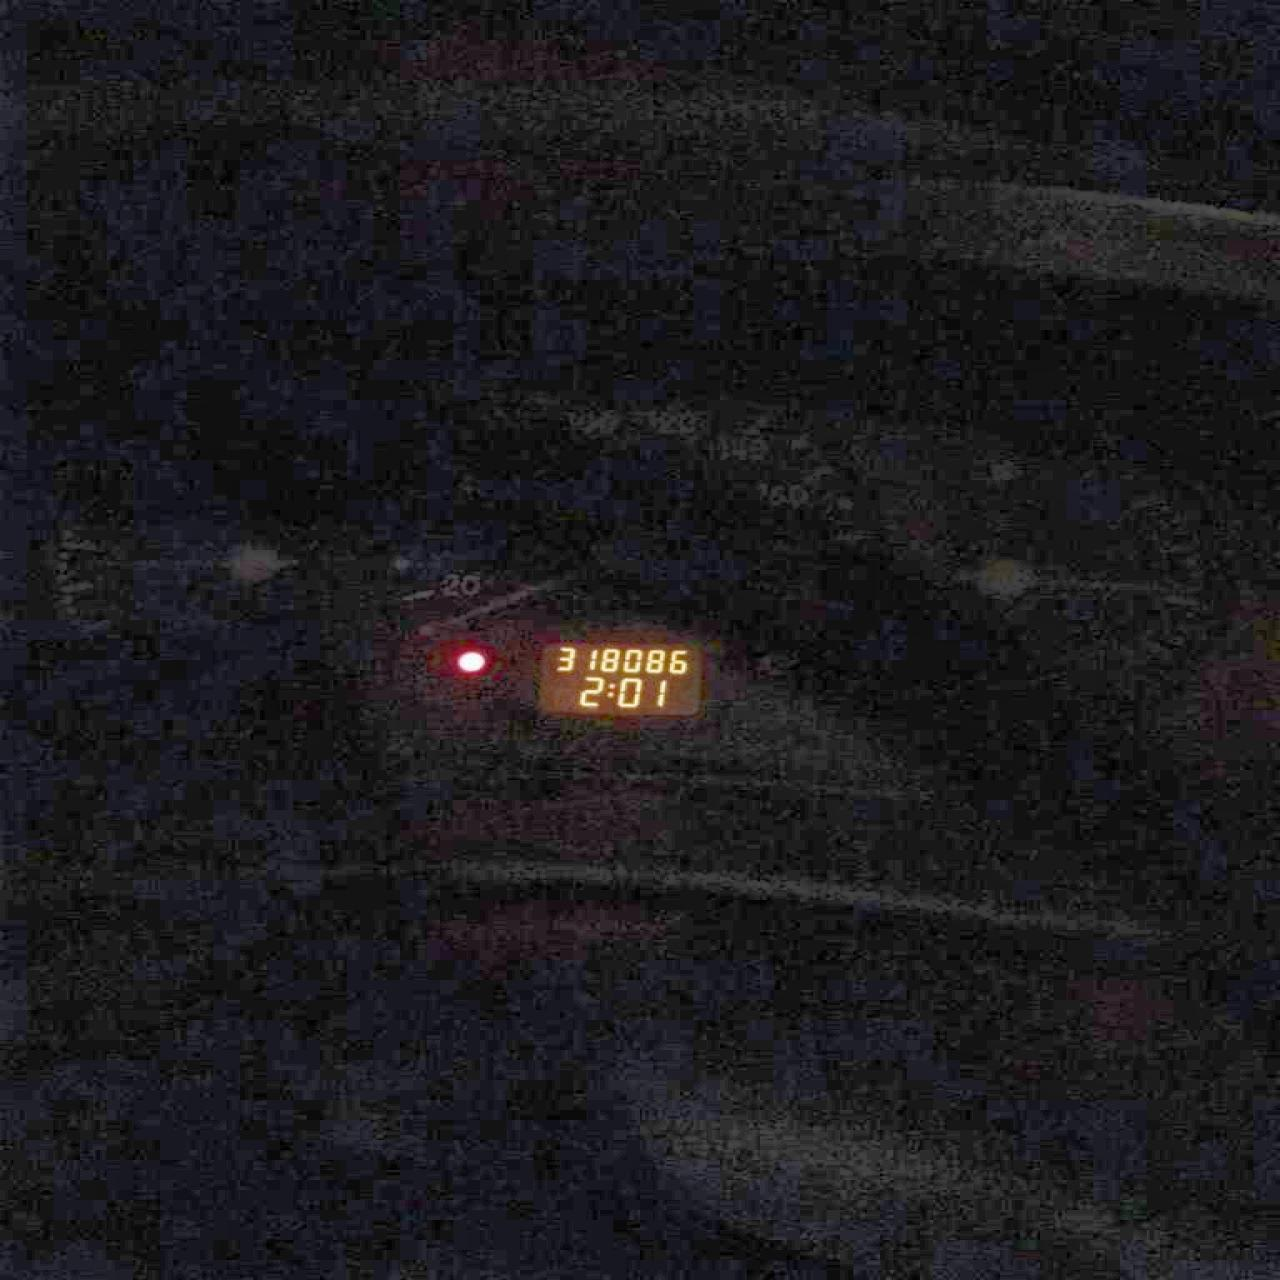0: (617, 676, 641, 708), (621, 647, 644, 673)
1: (655, 676, 668, 712), (585, 647, 597, 672)
2: (577, 675, 604, 706)
3: (557, 644, 576, 672)
6: (667, 647, 690, 673)
8: (644, 647, 665, 673), (600, 647, 618, 673)
X: (604, 680, 617, 700)
odometer: (535, 639, 704, 716)
